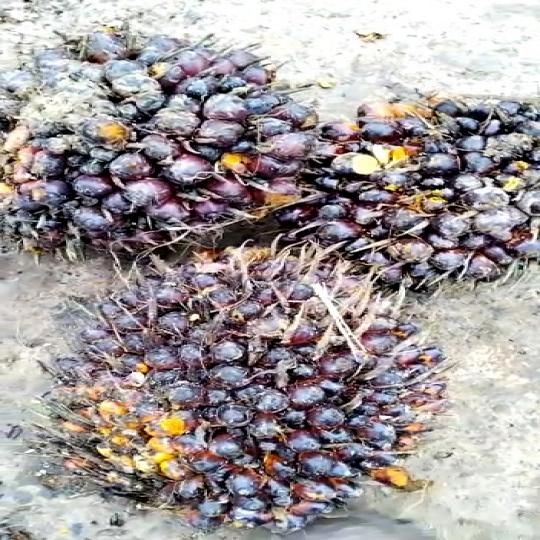kurang masak: (45, 253, 446, 540), (0, 18, 334, 264), (307, 85, 540, 299)
